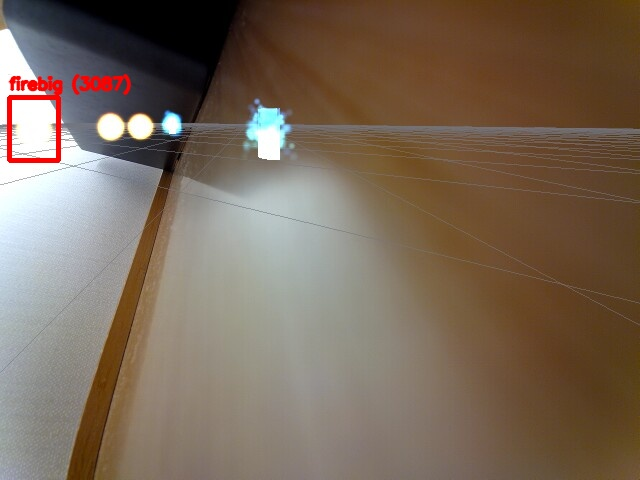firebig: (9, 97, 58, 160)
